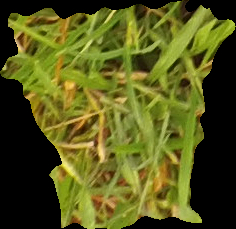grass: (1, 1, 235, 228)
